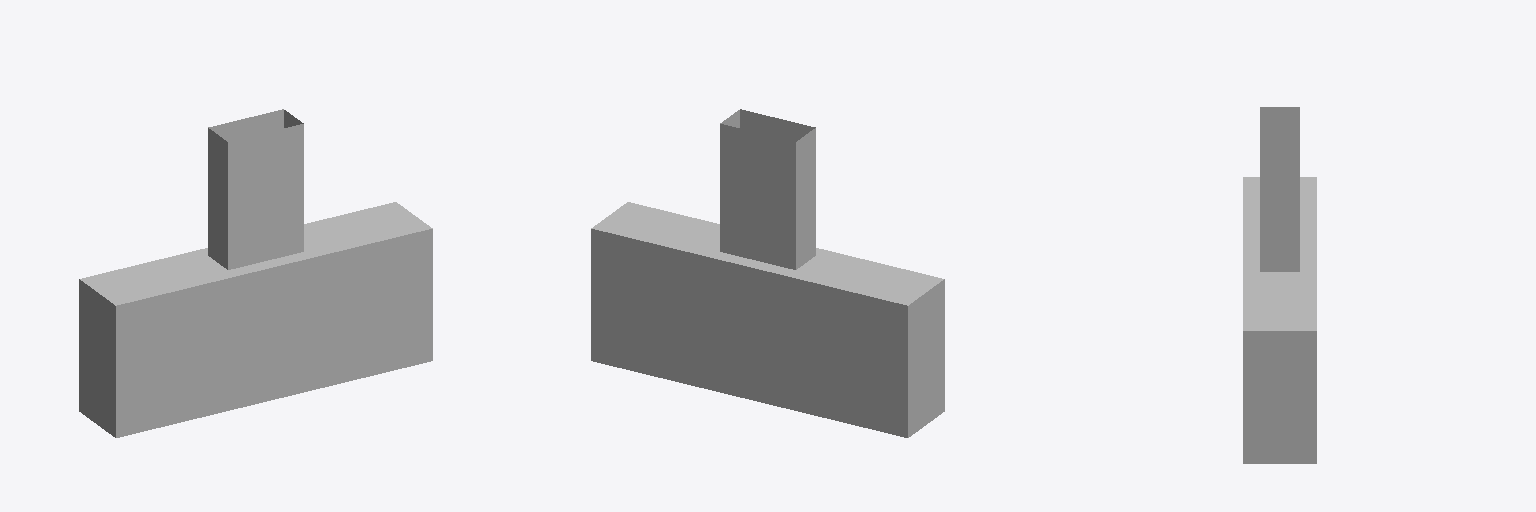
The model's file is hor1 exitsign.obj.
The picture shows the model from 3 angles: view 1: azimuth 30°, elevation 25°; view 2: azimuth 150°, elevation 25°; view 3: azimuth 270°, elevation 25°; orthographic projection.
Parts seen in each view (by area): view 1: Plane.024_Plane.020; view 2: Plane.024_Plane.020; view 3: Plane.024_Plane.020.
Part boxes in pixels (x1,y1,x2,y2): Plane.024_Plane.020: (79, 109, 432, 437); Plane.024_Plane.020: (591, 109, 944, 437); Plane.024_Plane.020: (1243, 107, 1316, 463).
Size of the model in its own units: 0.5 by 0.3933 by 0.1.